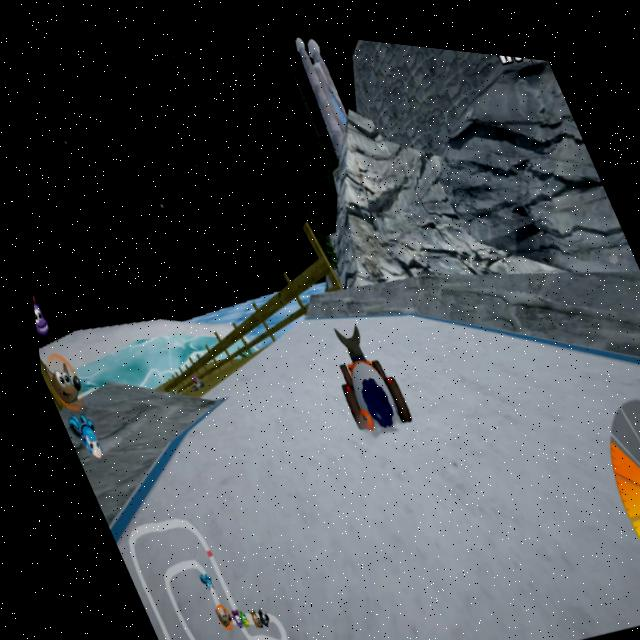obstacle: (185, 368, 203, 392)
player_kart: (300, 297, 425, 458)
track: (175, 290, 391, 563)
